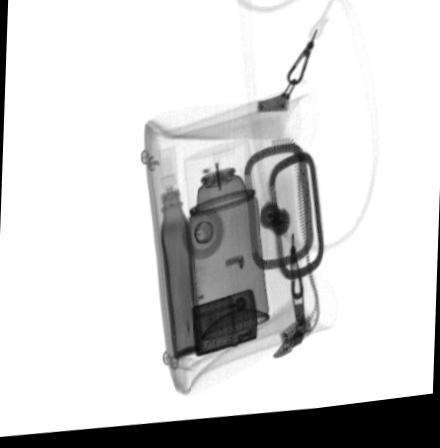Lighter: (192, 294, 257, 360)
Sprayer: (185, 145, 271, 345)
